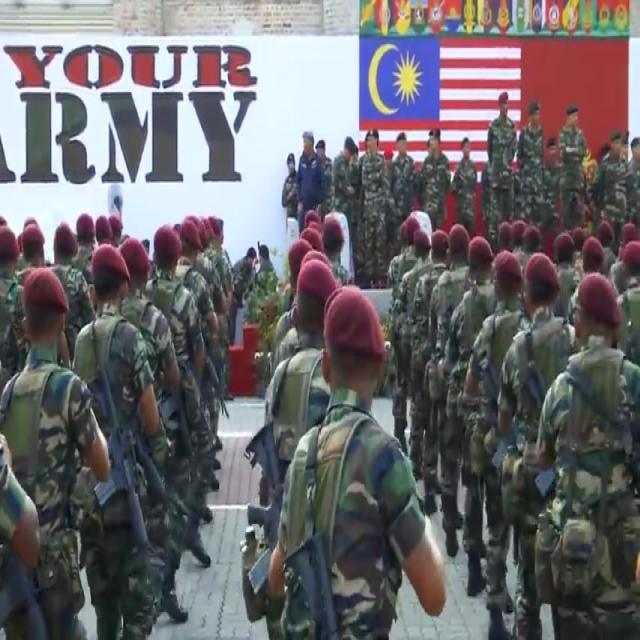m16: (80, 350, 188, 586)
